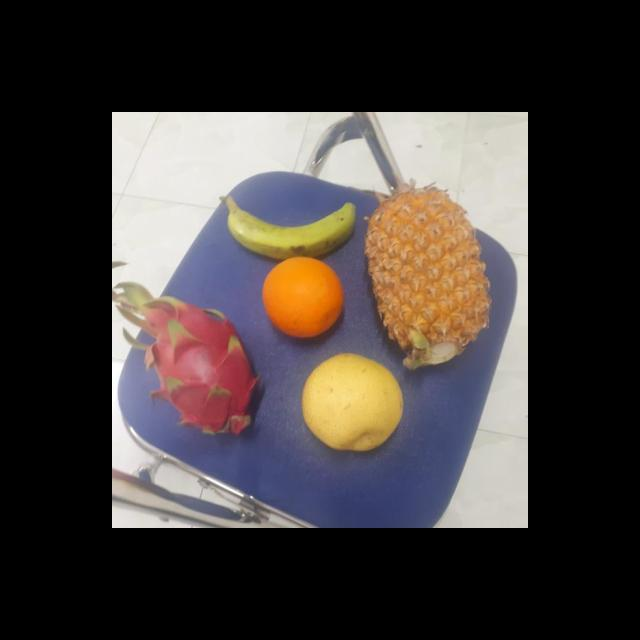banana: (228, 177, 359, 260)
orange: (262, 258, 348, 338)
pear: (303, 355, 407, 451)
pineapple: (366, 192, 488, 359)
pitaya: (139, 304, 266, 439)
